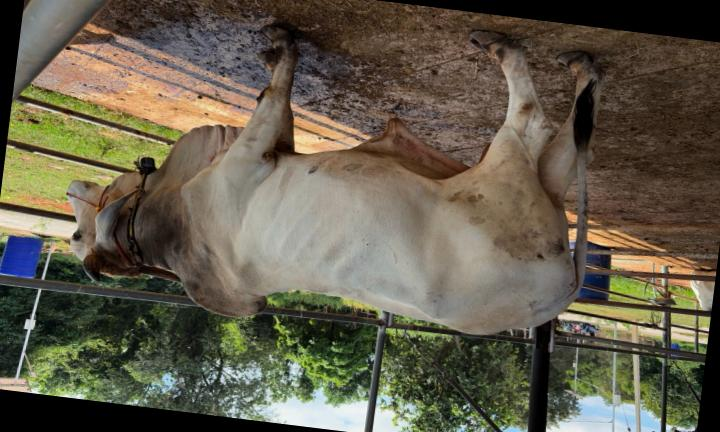Brahman: (67, 27, 604, 334)
